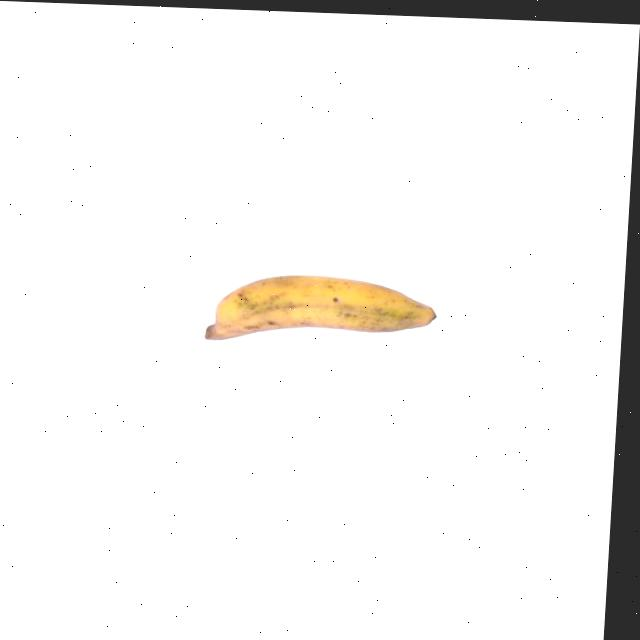banana: (199, 268, 441, 350)
